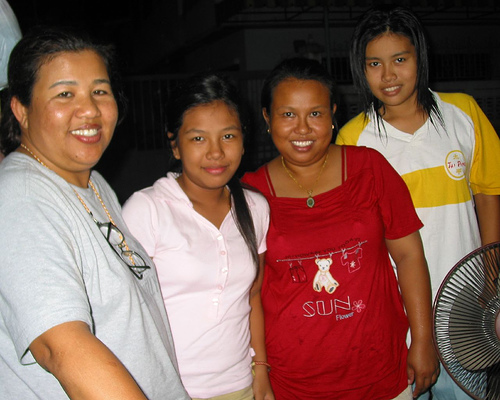without_mask: (21, 43, 124, 173), (266, 76, 338, 174), (169, 94, 247, 182), (358, 28, 429, 114)
